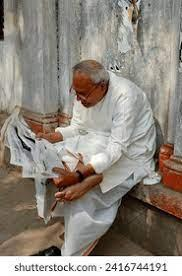Human: (20, 51, 152, 260)
